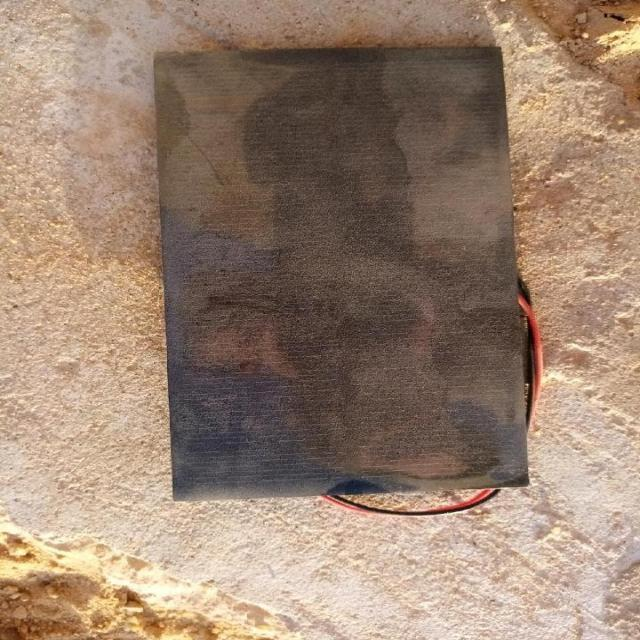faulty: (156, 47, 531, 503)
